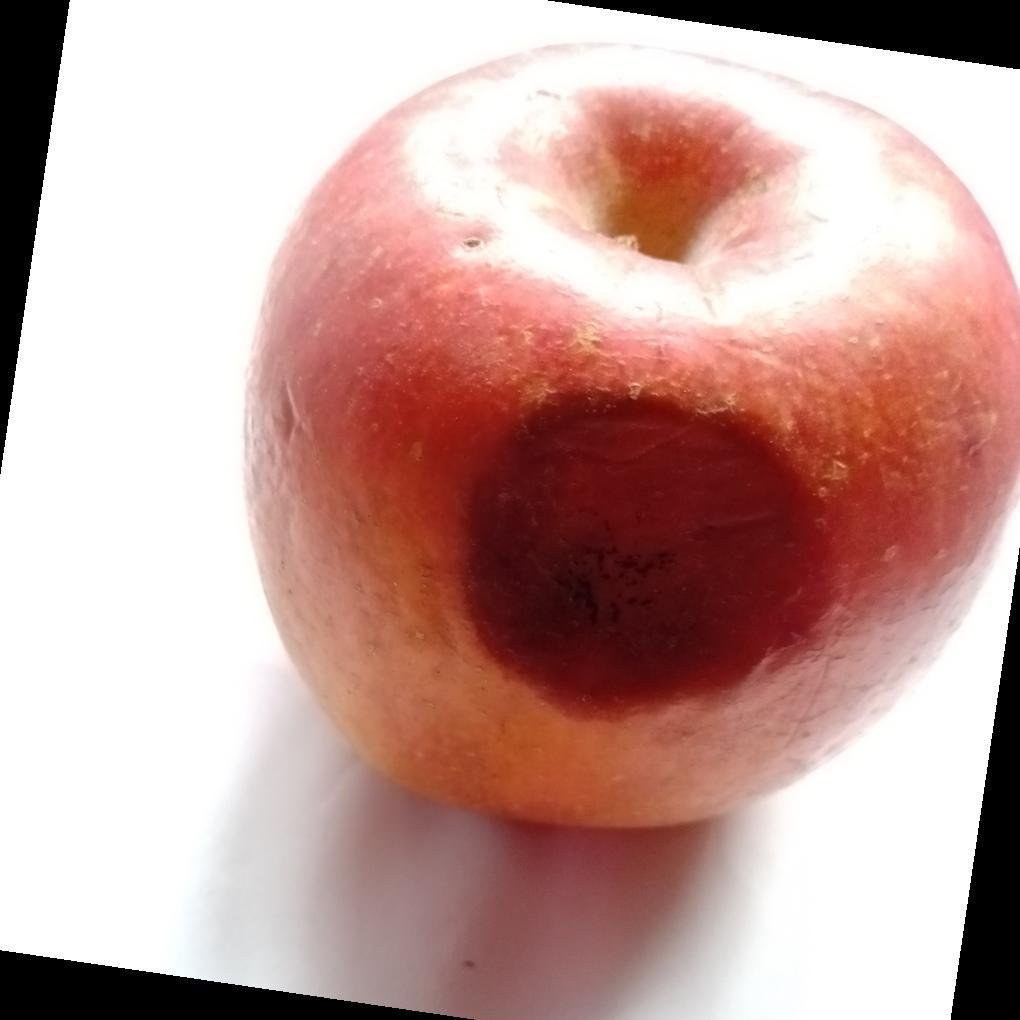FreshOrange: (240, 41, 1020, 836)
